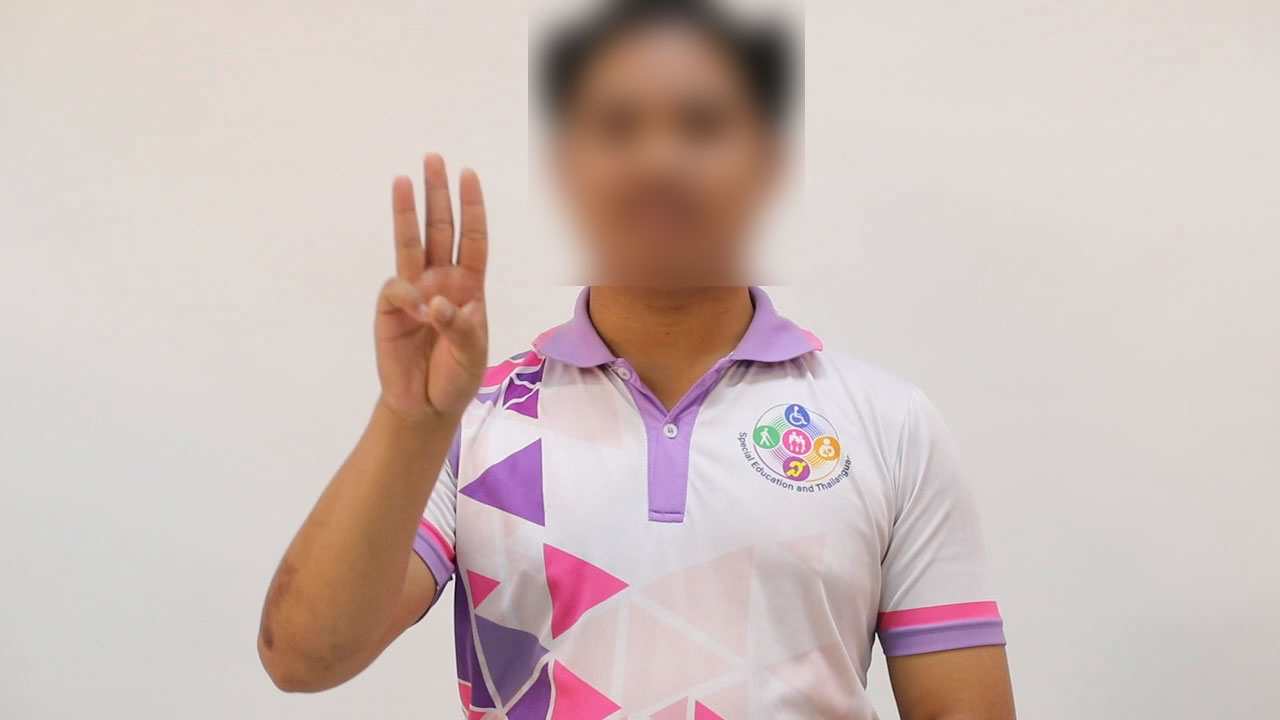wor: (357, 146, 494, 438)
